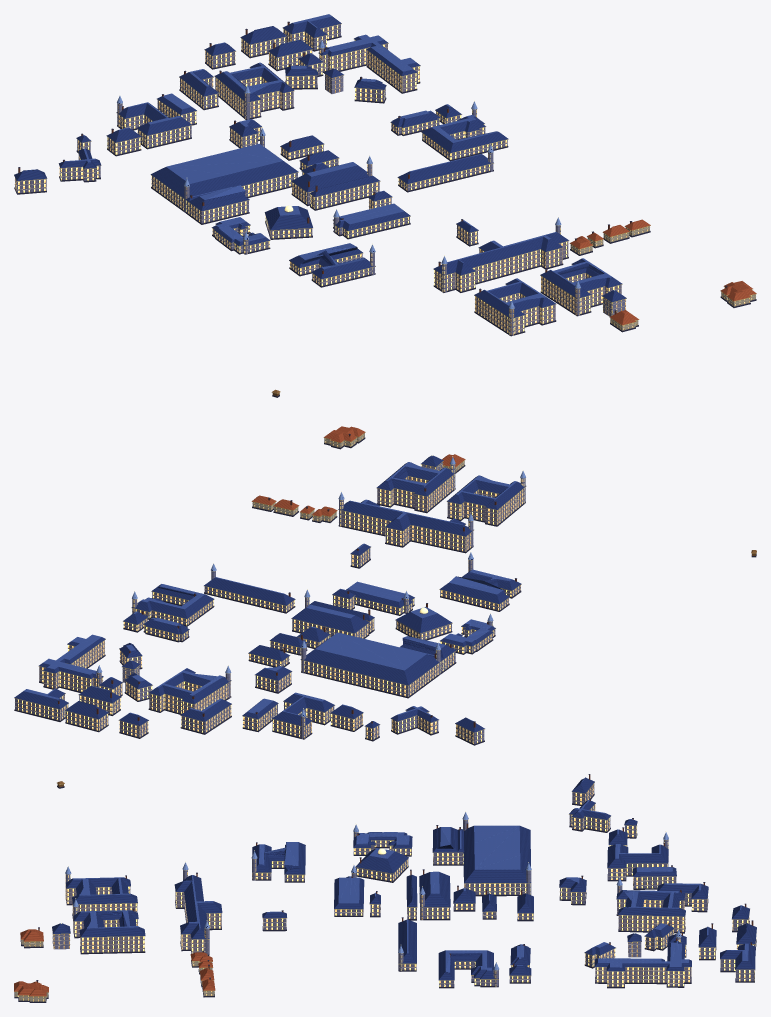
The model's file is campus-fantasy.glb.
The picture shows the model from 3 angles, top to bottom: view 1: azimuth 30°, elevation 25°; view 2: azimuth 150°, elevation 25°; view 3: azimuth 270°, elevation 25°; orthographic projection. The views are drawn at different scales.
Visible parts, largest first — view 1: b_way_454535317, b_way_868488566, b_way_868488590, b_relation_11863060, b_relation_11863062, b_relation_11863061, b_way_454535300, b_way_454535302, b_way_868488580, b_way_454535311, b_way_454535314, b_way_454535316 (+19 smaller); view 2: b_way_454535317, b_way_868488566, b_relation_11863061, b_relation_11863060, b_relation_11863062, b_way_868488590, b_way_454535300, b_way_454535302, b_way_868488580, b_way_454535311, b_way_454535313, b_way_454535314 (+18 smaller); view 3: b_way_454535317, b_way_868488590, b_relation_11863061, b_relation_11863062, b_way_868488566, b_relation_11863060, b_way_454535302, b_way_454535300, b_way_868488580, b_way_454535313, b_way_454535315, b_way_454535314 (+22 smaller).
Boxes of the visible parts, box(x1,y1,x2,y2) form: b_way_454535317: box(150, 127, 298, 212); b_way_868488566: box(433, 216, 569, 292); b_way_868488590: box(318, 34, 420, 93); b_relation_11863060: box(474, 278, 556, 336); b_relation_11863062: box(214, 62, 294, 119); b_relation_11863061: box(540, 258, 622, 316); b_way_454535300: box(289, 243, 375, 287); b_way_454535302: box(421, 100, 508, 161); b_way_868488580: box(116, 95, 192, 149); b_way_454535311: box(397, 143, 493, 192); b_way_454535314: box(333, 203, 410, 239); b_way_454535316: box(188, 185, 249, 224); b_way_454535317: box(300, 632, 440, 698); b_way_868488566: box(338, 491, 473, 553); b_relation_11863061: box(376, 456, 456, 513); b_relation_11863060: box(446, 470, 526, 526); b_relation_11863062: box(148, 665, 231, 714); b_way_868488590: box(38, 634, 105, 692); b_way_454535300: box(439, 551, 521, 611); b_way_454535302: box(131, 584, 214, 626); b_way_868488580: box(272, 692, 335, 739); b_way_454535311: box(204, 562, 295, 613); b_way_454535313: box(291, 589, 369, 638); b_way_454535314: box(346, 581, 414, 615); b_way_454535317: box(462, 811, 531, 896); b_way_868488590: box(594, 929, 691, 988); b_relation_11863061: box(73, 898, 145, 954); b_relation_11863062: box(616, 877, 685, 933); b_way_868488566: box(174, 861, 222, 955); b_relation_11863060: box(65, 865, 137, 920); b_way_454535302: box(438, 950, 499, 988); b_way_454535300: box(251, 842, 305, 882); b_way_868488580: box(607, 831, 668, 881); b_way_454535313: box(419, 869, 450, 920); b_way_454535315: box(355, 848, 408, 882); b_way_454535314: box(334, 864, 364, 916).
Bounding box in the file's own units: 364 × 27.45 × 526.
Materials: 13 (10 with a texture image).
